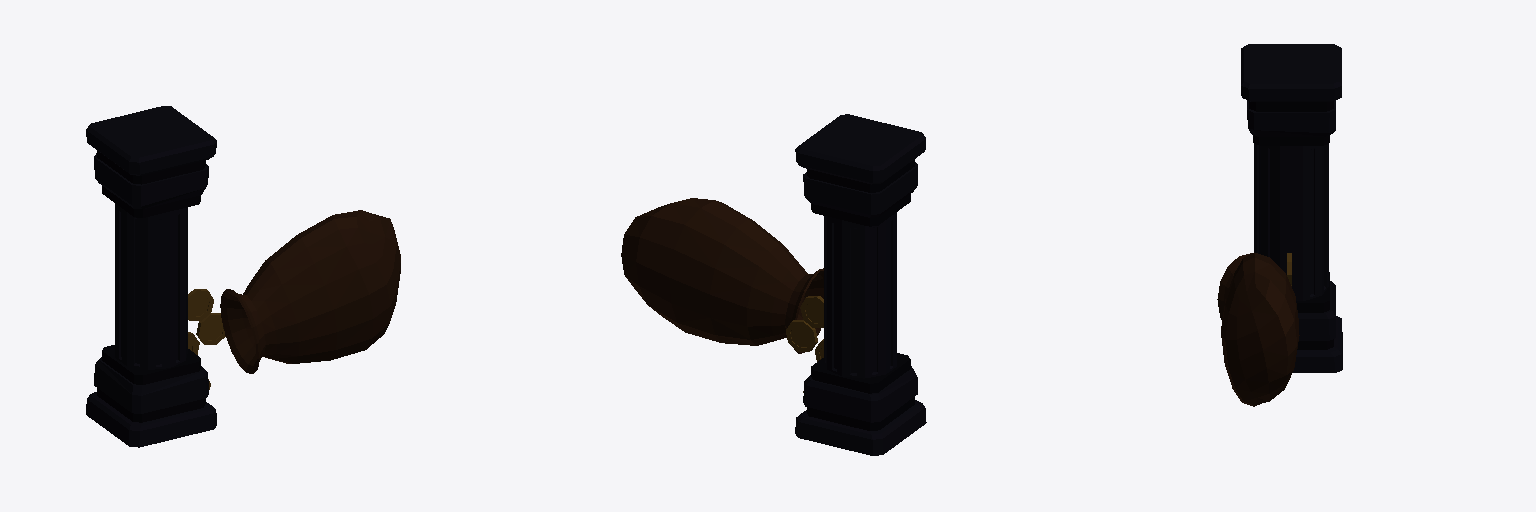
Rendered from Column2_Cube.obj.
The picture shows the model from 3 angles: view 1: azimuth 30°, elevation 25°; view 2: azimuth 150°, elevation 25°; view 3: azimuth 270°, elevation 25°; orthographic projection.
Visible parts, largest first — view 1: Column2_Cube.081, Bag_Coins_Cylinder.001; view 2: Column2_Cube.081, Bag_Coins_Cylinder.001; view 3: Column2_Cube.081, Bag_Coins_Cylinder.001.
Part boxes in pixels (left/top/right/bottom): Column2_Cube.081: left=86, top=106, right=216, bottom=447; Bag_Coins_Cylinder.001: left=188, top=210, right=400, bottom=389; Column2_Cube.081: left=795, top=114, right=926, bottom=455; Bag_Coins_Cylinder.001: left=621, top=198, right=823, bottom=392; Column2_Cube.081: left=1241, top=44, right=1342, bottom=372; Bag_Coins_Cylinder.001: left=1217, top=252, right=1299, bottom=406.
Size of the model in its own units: 4.22 by 4.07 by 1.6.